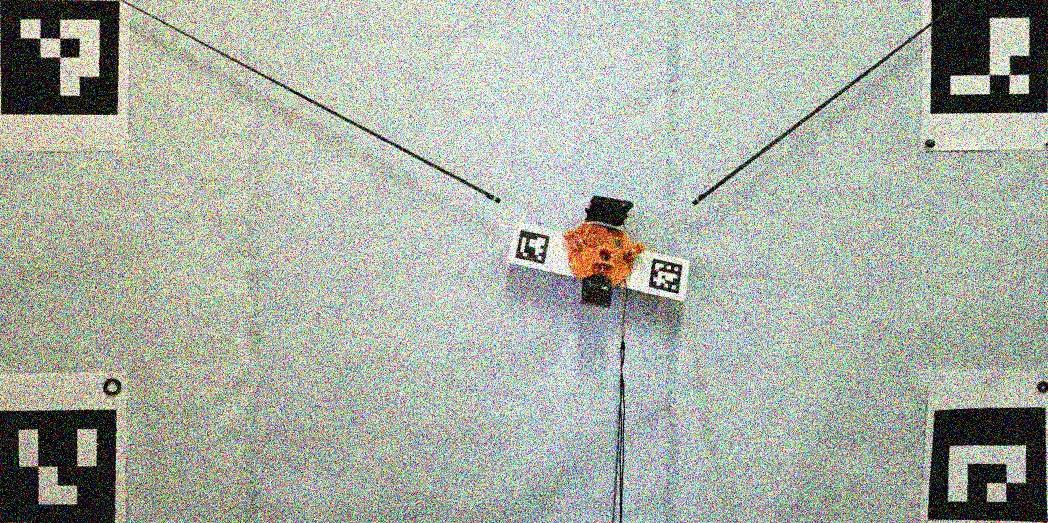robot: (565, 196, 644, 308)
